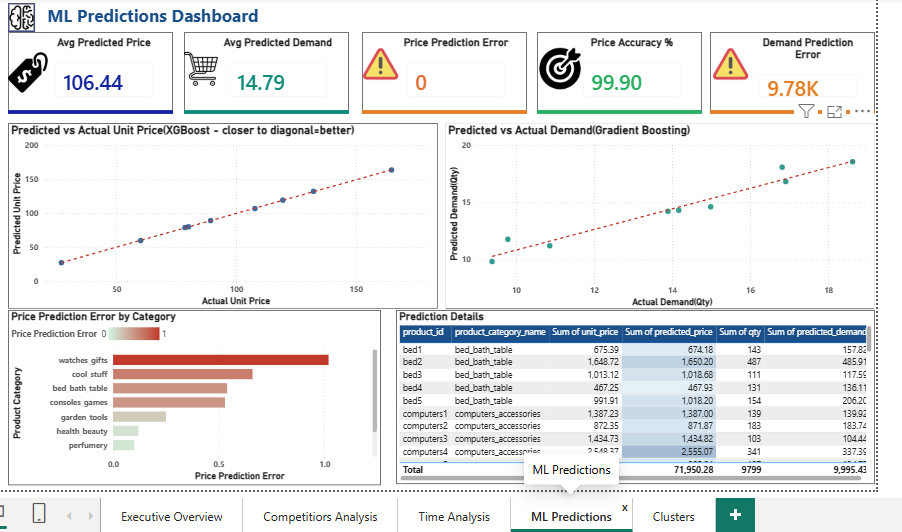

What the dashboard file says about the page in this screenshot:
{"tool":"powerbi","page":{"name":"ML Predictions","canvas":[1366,768],"ordinal":3},"visuals":[{"type":"shape","box":[12.5,53.1,257.6,124.9],"z":0},{"type":"shape","box":[287.2,53.1,257.6,124.9],"z":1000},{"type":"shape","box":[565.1,53.1,257.6,124.9],"z":2000},{"type":"shape","box":[1108.3,53.1,257.6,124.9],"z":3000},{"type":"shape","box":[838.2,53.1,257.6,124.9],"z":4000},{"type":"textbox","box":[68.7,3.1,654,50],"z":5000},{"type":"shape","box":[12.5,103,257.6,149.9],"z":6000},{"type":"shape","box":[287.2,103,257.6,149.9],"z":7000},{"type":"shape","box":[565.1,103,257.6,149.9],"z":8000},{"type":"shape","box":[12.5,195.1,671.2,290.3],"z":9000},{"type":"shape","box":[694.6,195.1,671.2,290.3],"z":10000},{"type":"shape","box":[1108.3,103,257.6,149.9],"z":11000},{"type":"shape","box":[618.3,486.9,747.7,271.7],"z":12000},{"type":"shape","box":[12.8,486.9,581.8,273.6],"z":13000},{"type":"shape","box":[838.2,103,257.6,149.9],"z":14000},{"type":"cardVisual","title":"Avg Predicted Price","fields":{"Data":["ecommerce_final (1).Avg Predicted Price"]},"box":[68.7,59.3,187.3,112.4],"z":15000},{"type":"cardVisual","title":"Avg Predicted Demand","fields":{"Data":["ecommerce_final (1).Avg Predicted Demand"]},"box":[340.3,59.3,187.3,112.4],"z":16000},{"type":"cardVisual","title":"Price Prediction Error","fields":{"Data":["ecommerce_final (1).Price Prediction Error"]},"box":[618.1,59.3,187.3,112.4],"z":17000},{"type":"cardVisual","title":"Price Accuracy %","fields":{"Data":["ecommerce_final (1).Price Accuracy %"]},"box":[892.9,59.3,187.3,112.4],"z":18000},{"type":"cardVisual","title":"Demand Prediction Error","fields":{"Data":["ecommerce_final (1).Demand Prediction Error"]},"box":[1167.6,59.3,187.3,112.4],"z":19000},{"type":"scatterChart","title":"Predicted vs Actual Unit Price(XGBoost - closer to diagonal=better)","fields":{"X":["Avg(ecommerce_final (1).unit_price)"],"Y":["Avg(ecommerce_final (1).predicted_price)"],"Category":["ecommerce_final (1).product_category_name"]},"box":[12.5,195.1,671.2,290.3],"z":20000},{"type":"scatterChart","title":"Predicted vs Actual Demand(Gradient Boosting)","fields":{"Category":["ecommerce_final (1).product_category_name"],"X":["Avg(ecommerce_final (1).qty)"],"Y":["Avg(ecommerce_final (1).predicted_demand)"]},"box":[694.9,195.1,671.1,291.8],"z":21000},{"type":"barChart","title":"Price Prediction Error by Category","fields":{"Category":["ecommerce_final (1).product_category_name"],"Y":["ecommerce_final (1).Price Prediction Error"]},"box":[12.8,486.9,581.8,271.7],"z":22000},{"type":"tableEx","title":"Prediction Details","fields":{"Values":["ecommerce_final (1).product_id","ecommerce_final (1).product_category_name","Sum(ecommerce_final (1).unit_price)","Sum(ecommerce_final (1).predicted_price)","Sum(ecommerce_final (1).qty)","Sum(ecommerce_final (1).predicted_demand)"]},"box":[618.3,486.9,747.7,271.7],"z":23000},{"type":"image","box":[12.5,7.8,42.1,45.3],"z":23001},{"type":"image","box":[12.5,68.7,62.4,95.2],"z":23002},{"type":"image","box":[287.2,67.1,53.1,87.4],"z":23003},{"type":"image","box":[566.6,59.3,54.6,87.4],"z":23004},{"type":"image","box":[1113,59.3,54.6,87.4],"z":23005},{"type":"image","box":[838.2,56.2,71.8,107.7],"z":23006}]}

Visuals, with their boxes on the page's 1366x768 design canvas (x1, y1, x2, y2). These are canvas units, not pixel positions in the 902x532 screenshot, which may show the page scaled, cropped or inside an application window:
shape: [x1=12, y1=53, x2=270, y2=178]
shape: [x1=287, y1=53, x2=545, y2=178]
shape: [x1=565, y1=53, x2=823, y2=178]
shape: [x1=1108, y1=53, x2=1366, y2=178]
shape: [x1=838, y1=53, x2=1096, y2=178]
textbox: [x1=69, y1=3, x2=723, y2=53]
shape: [x1=12, y1=103, x2=270, y2=253]
shape: [x1=287, y1=103, x2=545, y2=253]
shape: [x1=565, y1=103, x2=823, y2=253]
shape: [x1=12, y1=195, x2=684, y2=485]
shape: [x1=695, y1=195, x2=1366, y2=485]
shape: [x1=1108, y1=103, x2=1366, y2=253]
shape: [x1=618, y1=487, x2=1366, y2=759]
shape: [x1=13, y1=487, x2=595, y2=760]
shape: [x1=838, y1=103, x2=1096, y2=253]
"Avg Predicted Price" cardVisual: [x1=69, y1=59, x2=256, y2=172]
"Avg Predicted Demand" cardVisual: [x1=340, y1=59, x2=528, y2=172]
"Price Prediction Error" cardVisual: [x1=618, y1=59, x2=805, y2=172]
"Price Accuracy %" cardVisual: [x1=893, y1=59, x2=1080, y2=172]
"Demand Prediction Error" cardVisual: [x1=1168, y1=59, x2=1355, y2=172]
"Predicted vs Actual Unit Price(XGBoost - closer to diagonal=better)" scatterChart: [x1=12, y1=195, x2=684, y2=485]
"Predicted vs Actual Demand(Gradient Boosting)" scatterChart: [x1=695, y1=195, x2=1366, y2=487]
"Price Prediction Error by Category" barChart: [x1=13, y1=487, x2=595, y2=759]
"Prediction Details" tableEx: [x1=618, y1=487, x2=1366, y2=759]
image: [x1=12, y1=8, x2=55, y2=53]
image: [x1=12, y1=69, x2=75, y2=164]
image: [x1=287, y1=67, x2=340, y2=154]
image: [x1=567, y1=59, x2=621, y2=147]
image: [x1=1113, y1=59, x2=1168, y2=147]
image: [x1=838, y1=56, x2=910, y2=164]
